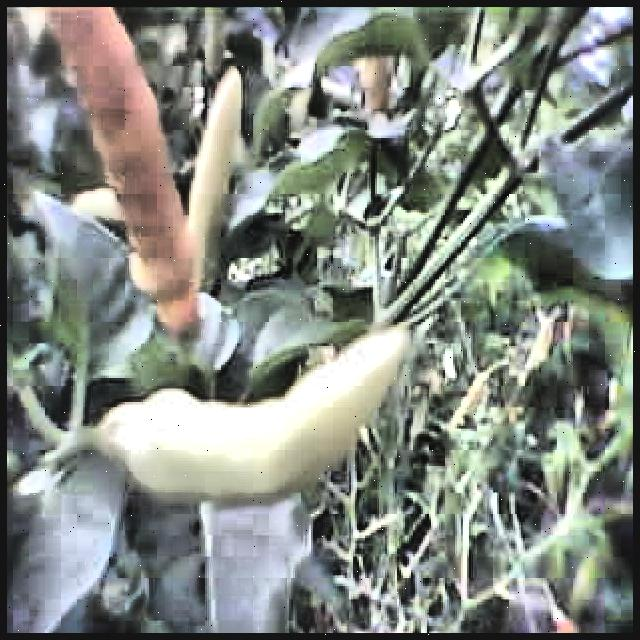Cabai: (58, 7, 194, 340)
